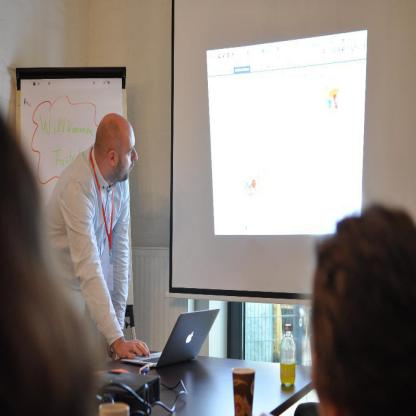board: (121, 307, 218, 367), (232, 367, 254, 416), (281, 324, 297, 388)
